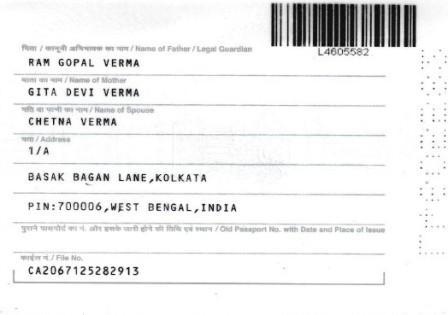File_no: (27, 265, 141, 277)
address: (24, 140, 388, 219)
father_name: (22, 53, 209, 73)
mother_name: (27, 83, 185, 97)
passport_no: (316, 45, 373, 59)
spouse_name: (26, 114, 119, 131)
